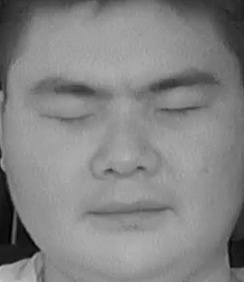blink: (44, 98, 93, 138), (156, 92, 209, 128)
mouth: (83, 183, 182, 239)
